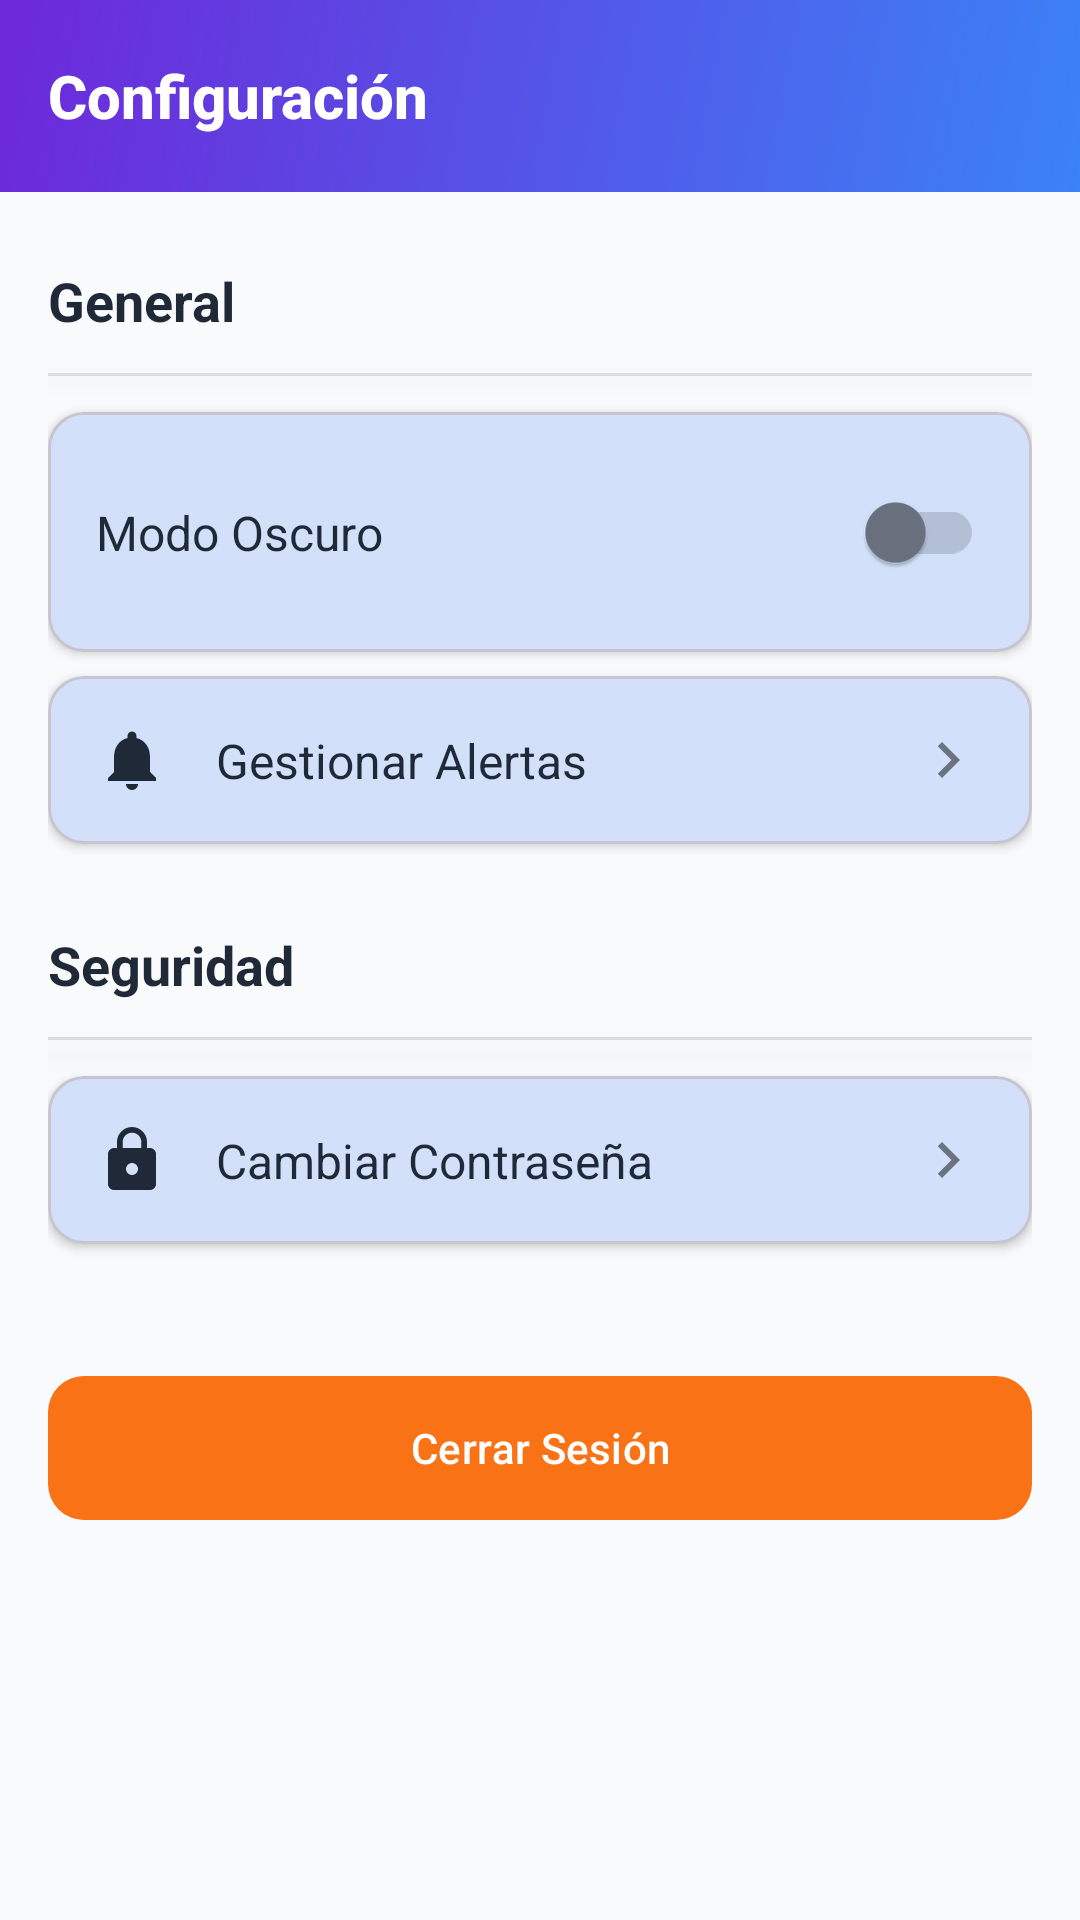

Icons on this 1080px×1920px Android screen, each with its box as (x1, y1, x2, y2):
Notificaciones: (108, 731, 156, 790)
Ver más: (938, 742, 960, 778), (938, 1142, 960, 1178)
